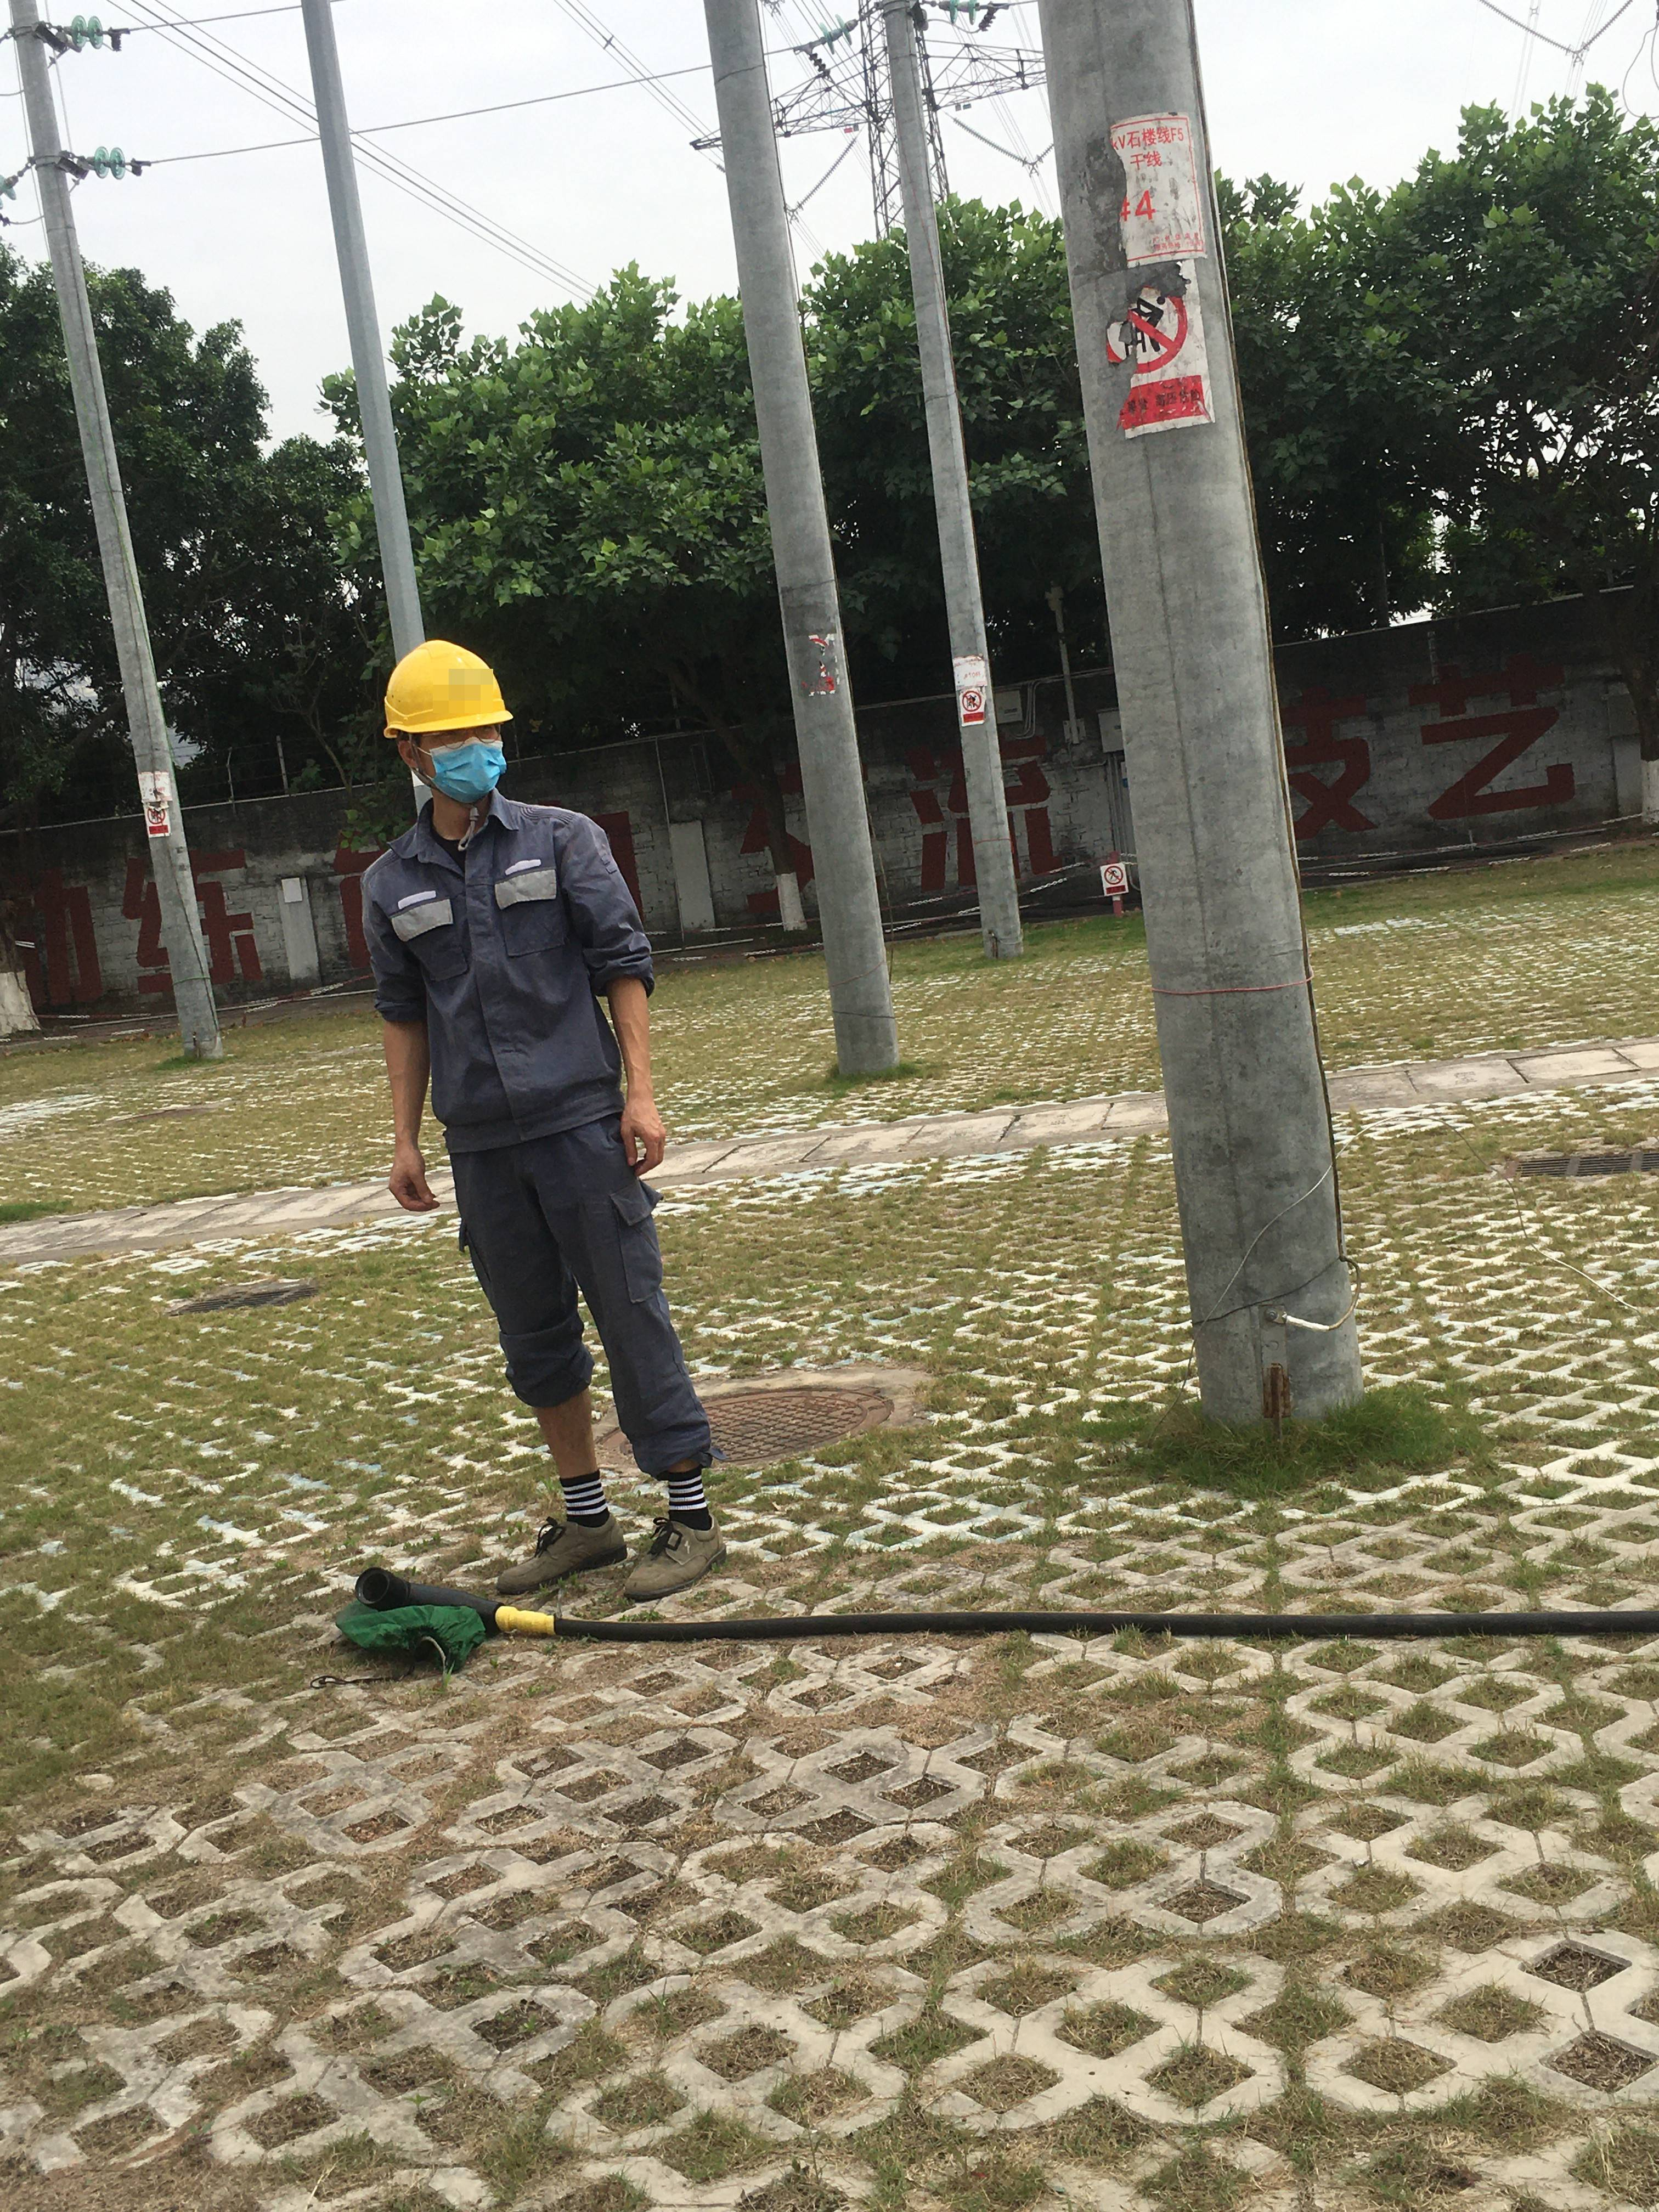downsuit: (450, 1169, 725, 1479)
upsuit: (361, 805, 657, 1150)
wrongbottom: (509, 1332, 610, 1512)
wrongtop: (598, 914, 664, 1155), (376, 991, 434, 1200)
